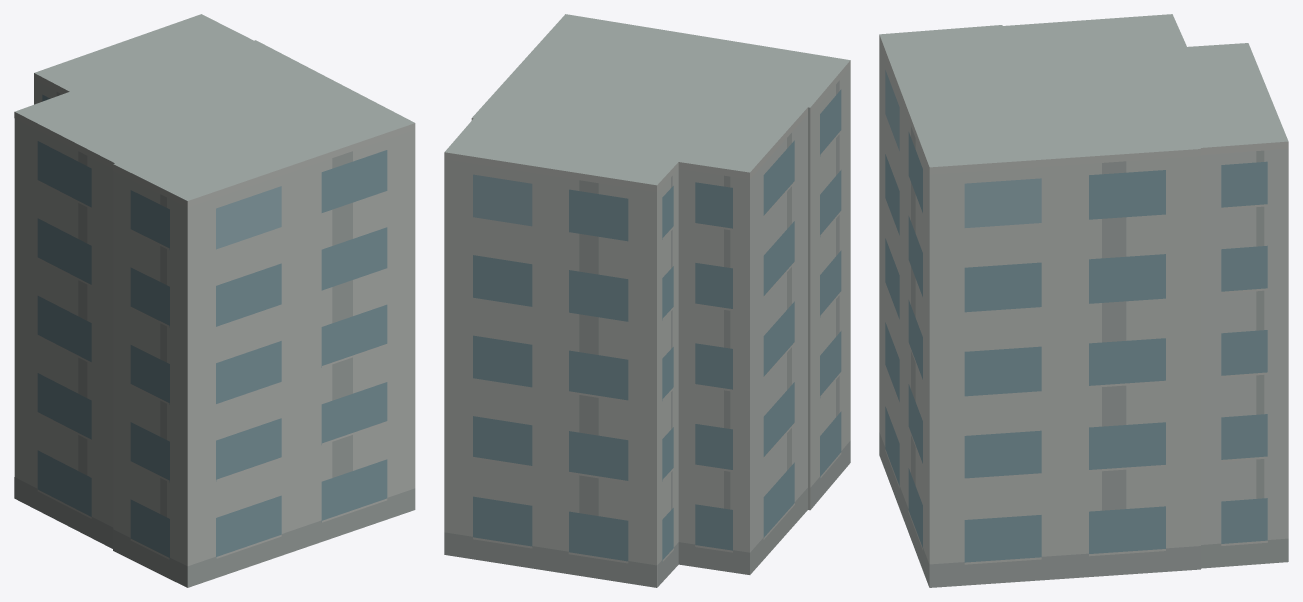
File: survey-upis-32818036.glb
3 views of the same model, side by side, from view 1: azimuth 30°, elevation 25°; view 2: azimuth 150°, elevation 25°; view 3: azimuth 270°, elevation 25° (orthographic). The views are drawn at different scales.
Parts seen in each view (by area): view 1: survey-upis-32818036.tmp; view 2: survey-upis-32818036.tmp; view 3: survey-upis-32818036.tmp.
Part boxes in pixels (x1,y1,x2,y2): survey-upis-32818036.tmp: (14,14,415,587); survey-upis-32818036.tmp: (444,14,850,587); survey-upis-32818036.tmp: (879,14,1288,587).
Size of the model in its own units: 11 by 14.05 by 12.4.
